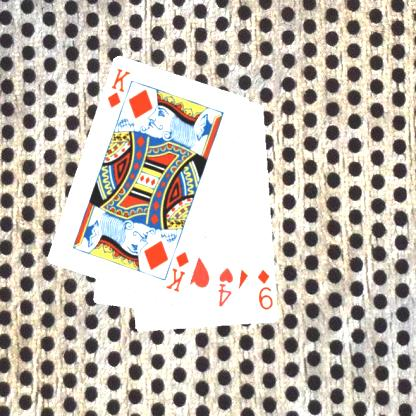4H: (215, 265, 235, 308)
9D: (255, 266, 274, 312)
KD: (162, 248, 191, 294), (104, 65, 132, 110)
